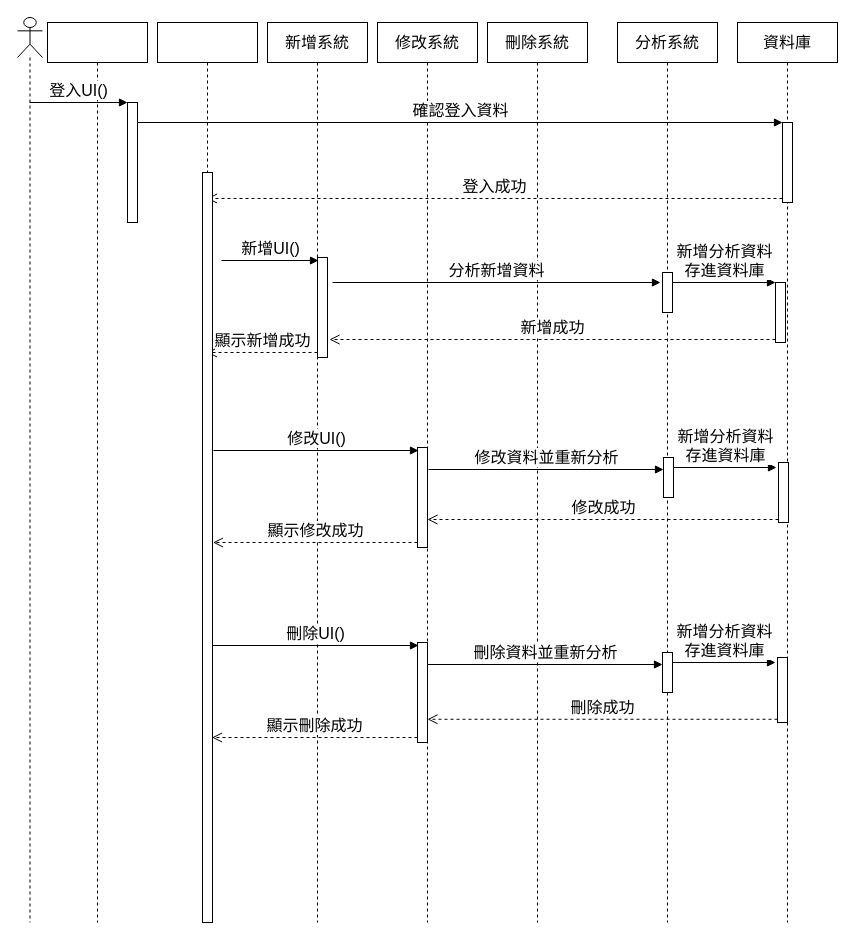
This 855x940 diagram has some shape labels left out. Each missing label, with the box of its shape:
使用者紀錄: (156, 22, 258, 922)
登入系統: (46, 22, 148, 922)
